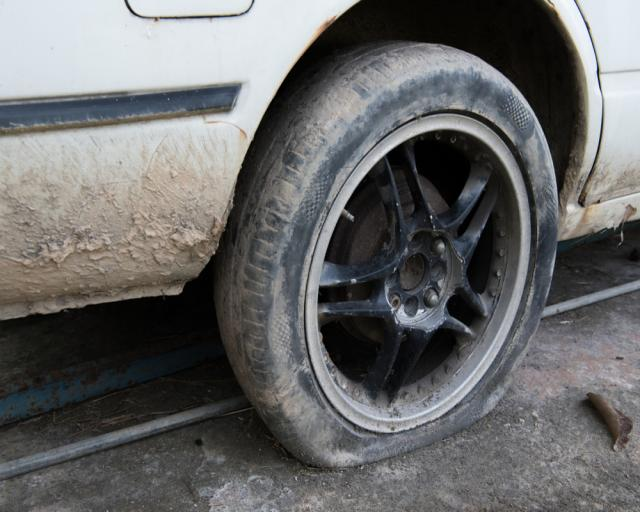tire flat: (217, 43, 558, 469)
